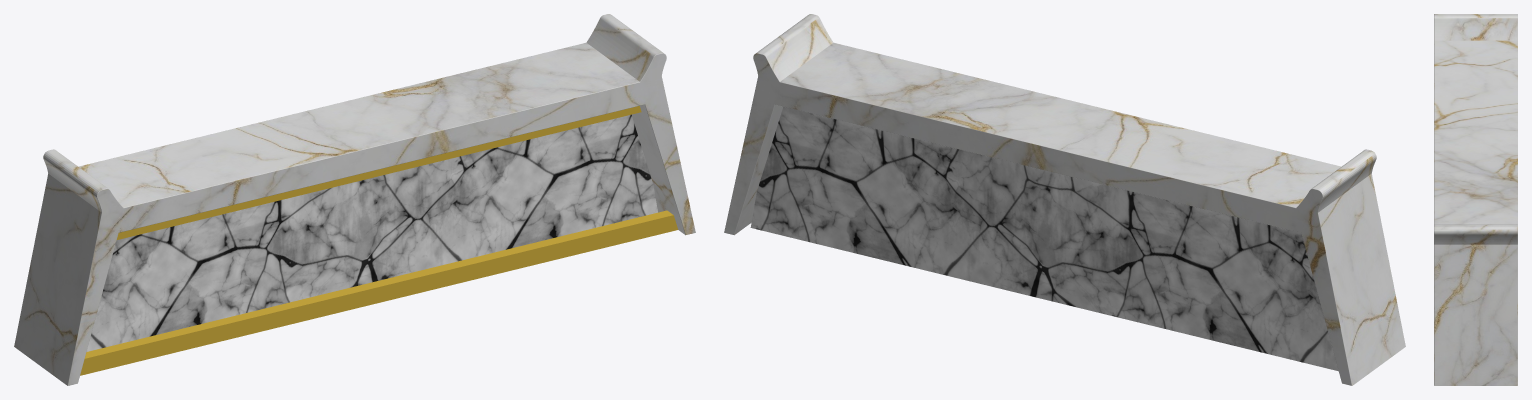
The model's file is hotel-reception-desk.glb.
3 views of the same model, side by side, from view 1: azimuth 30°, elevation 25°; view 2: azimuth 150°, elevation 25°; view 3: azimuth 270°, elevation 25° (orthographic). The views are drawn at different scales.
Visible parts, largest first — view 1: reception-desk; view 2: reception-desk; view 3: reception-desk.
Boxes of the visible parts, x1,y1,x2,y2 form: reception-desk: (14,14,695,385); reception-desk: (724,14,1405,385); reception-desk: (1434,14,1517,385).
Size of the model in its own units: 3.53 by 1.01 by 0.5241.
3 materials, 2 textured.
